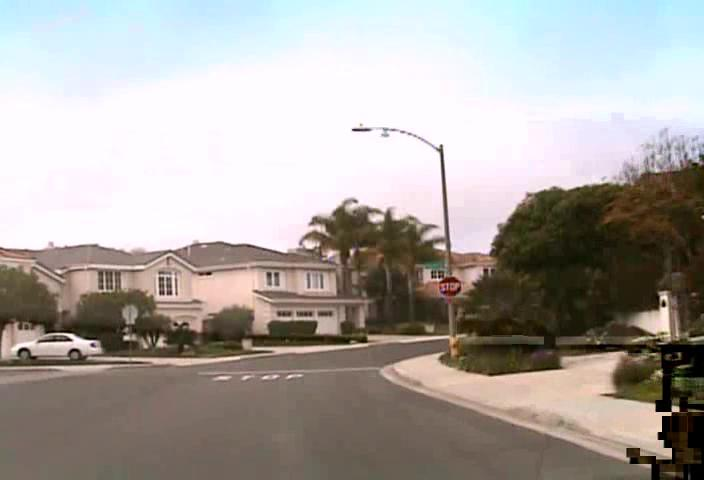stop: (438, 275, 462, 297)
